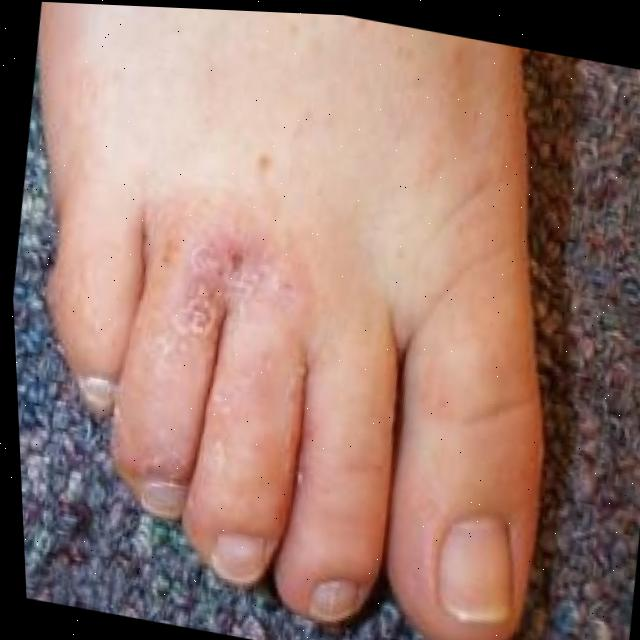Eczema: (147, 224, 329, 365)
